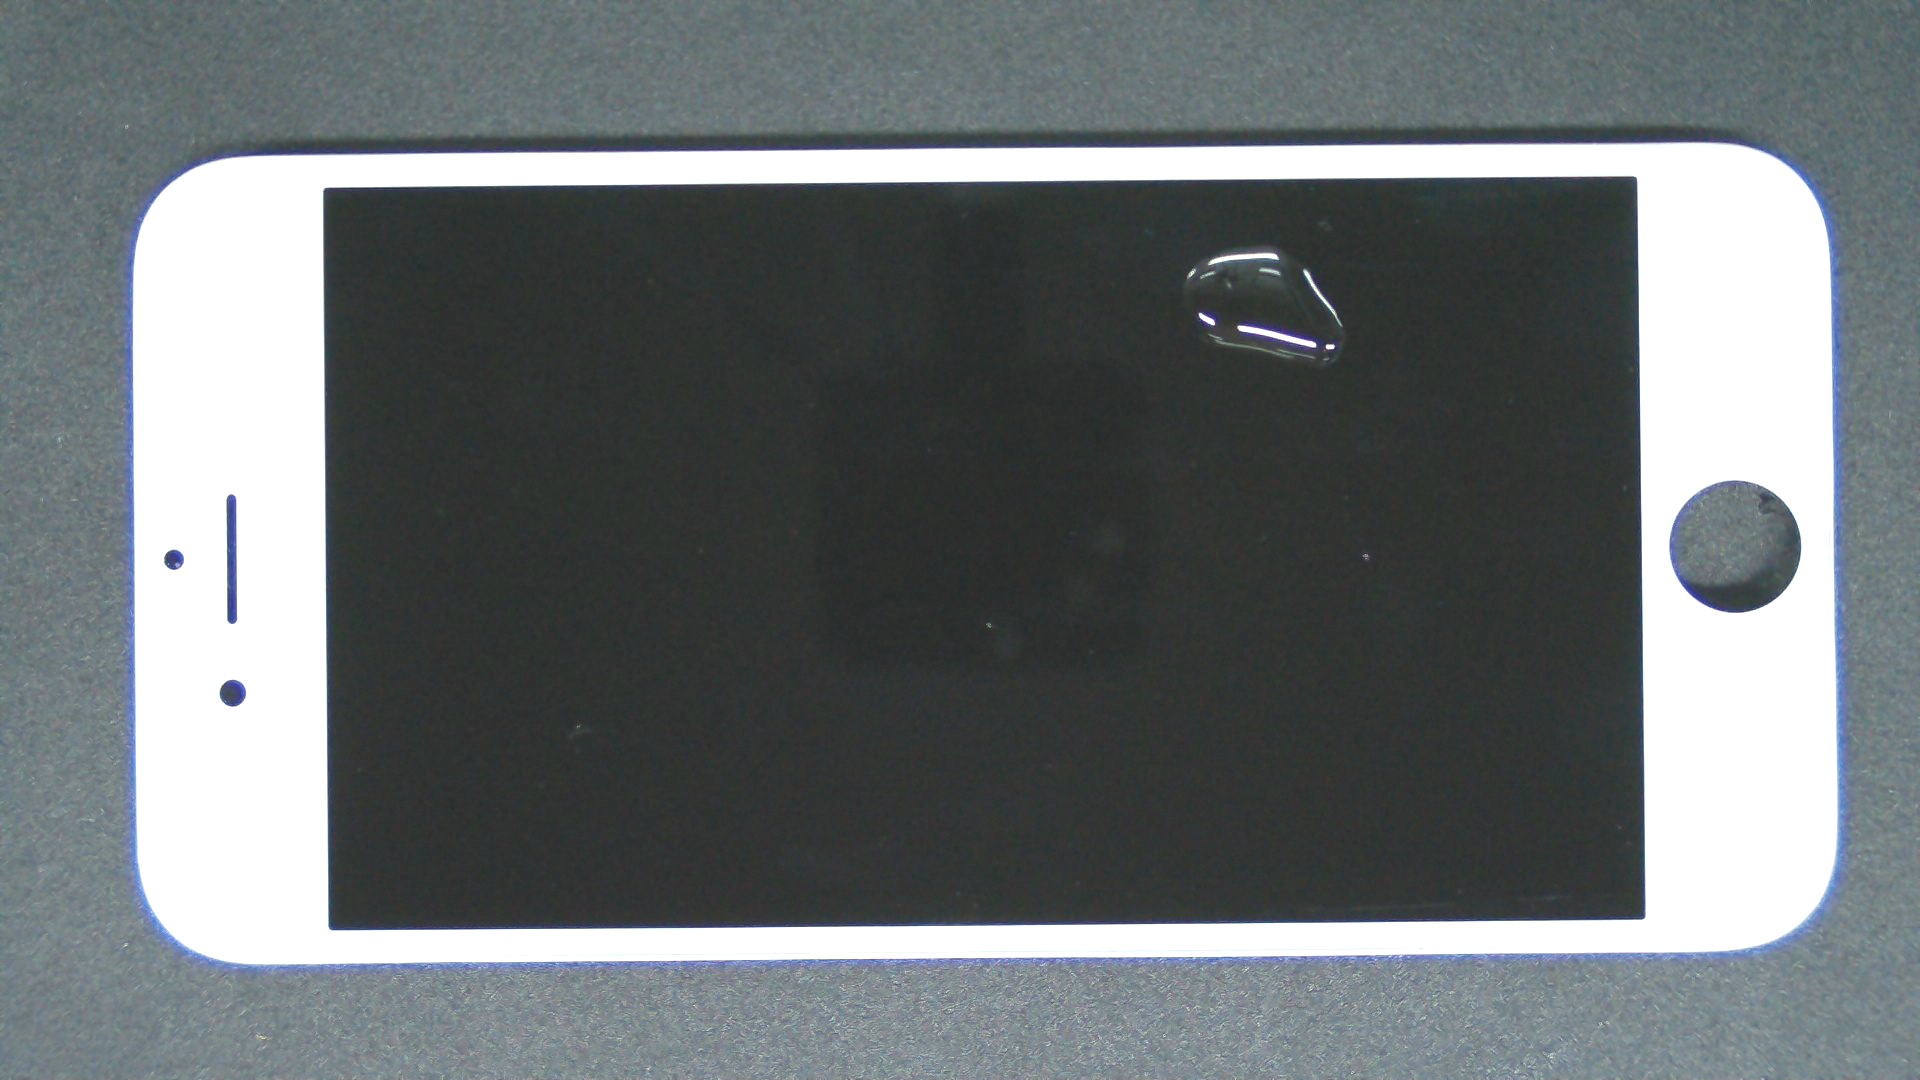oil: (633, 121, 1898, 367)
